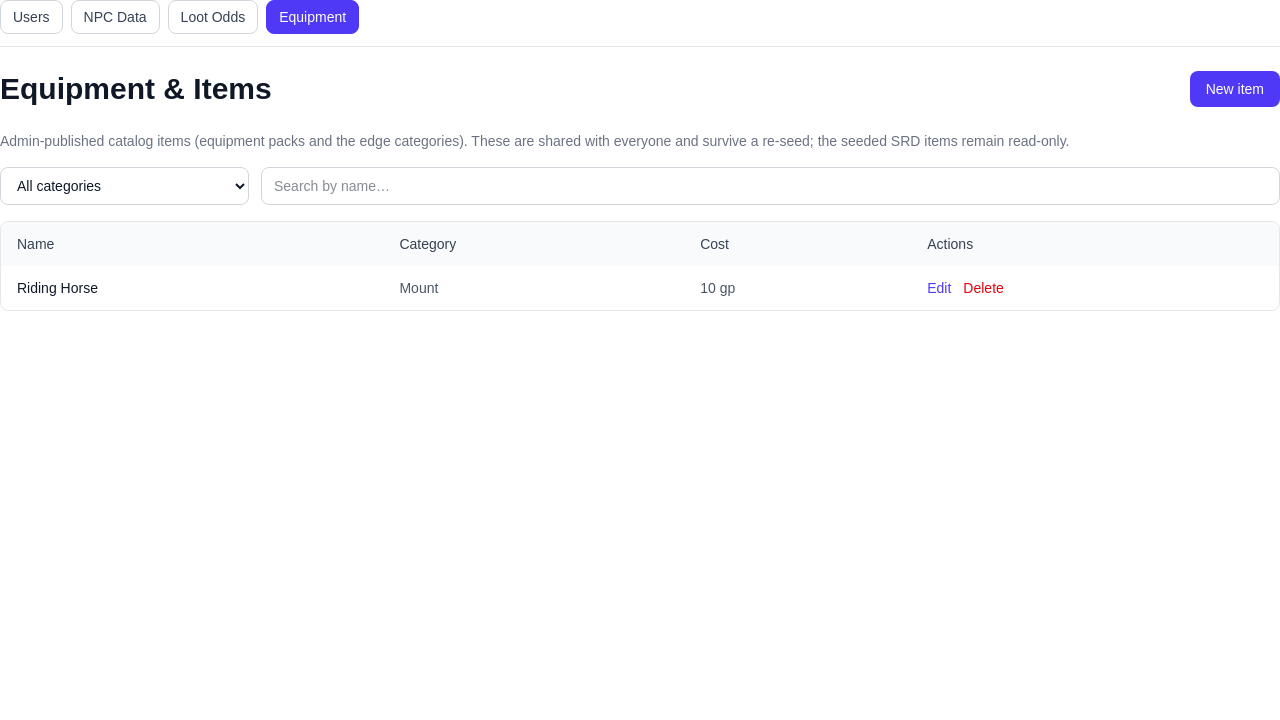
AdminEquipmentPage › deletes an item after confirmation and refetches the list
The width and height of the screenshot is (1280, 720).
Expected: the text "Riding Horse" is shown, [1,266,383,310]
Click the button "Delete": (984, 288) [963,278,1004,298]
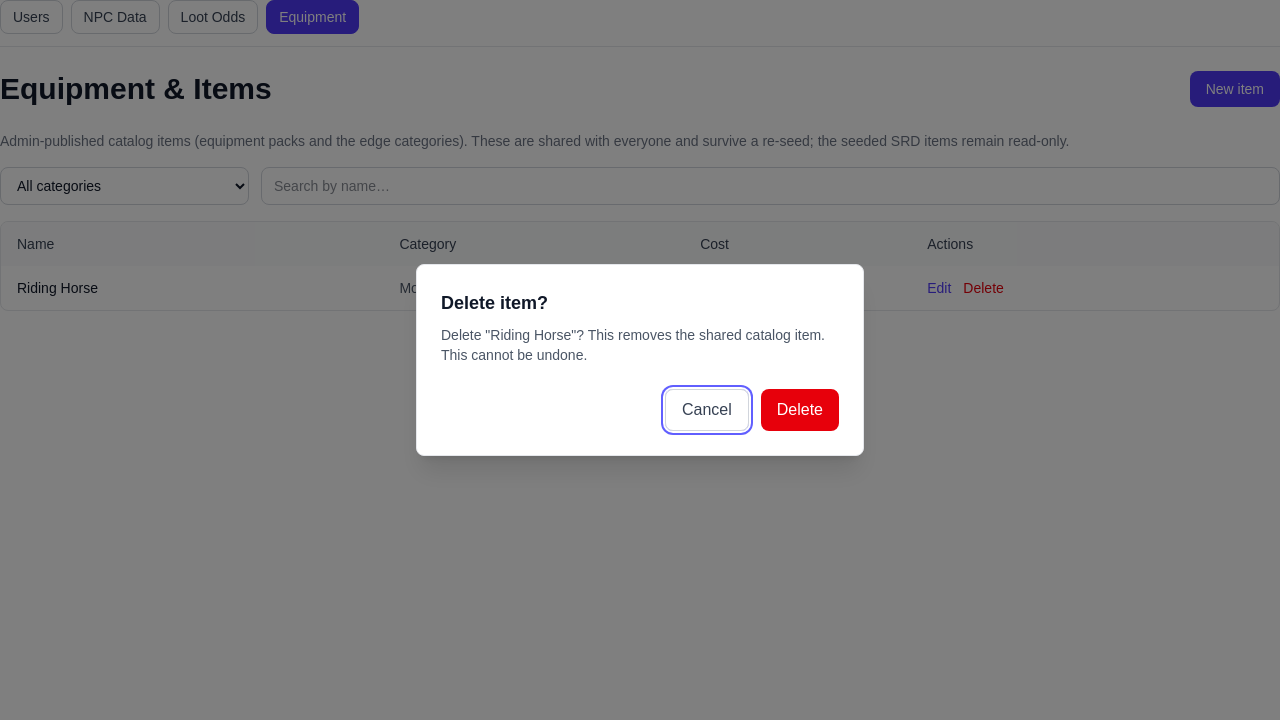
Click the button "Delete": (800, 410) [761,389,839,431]
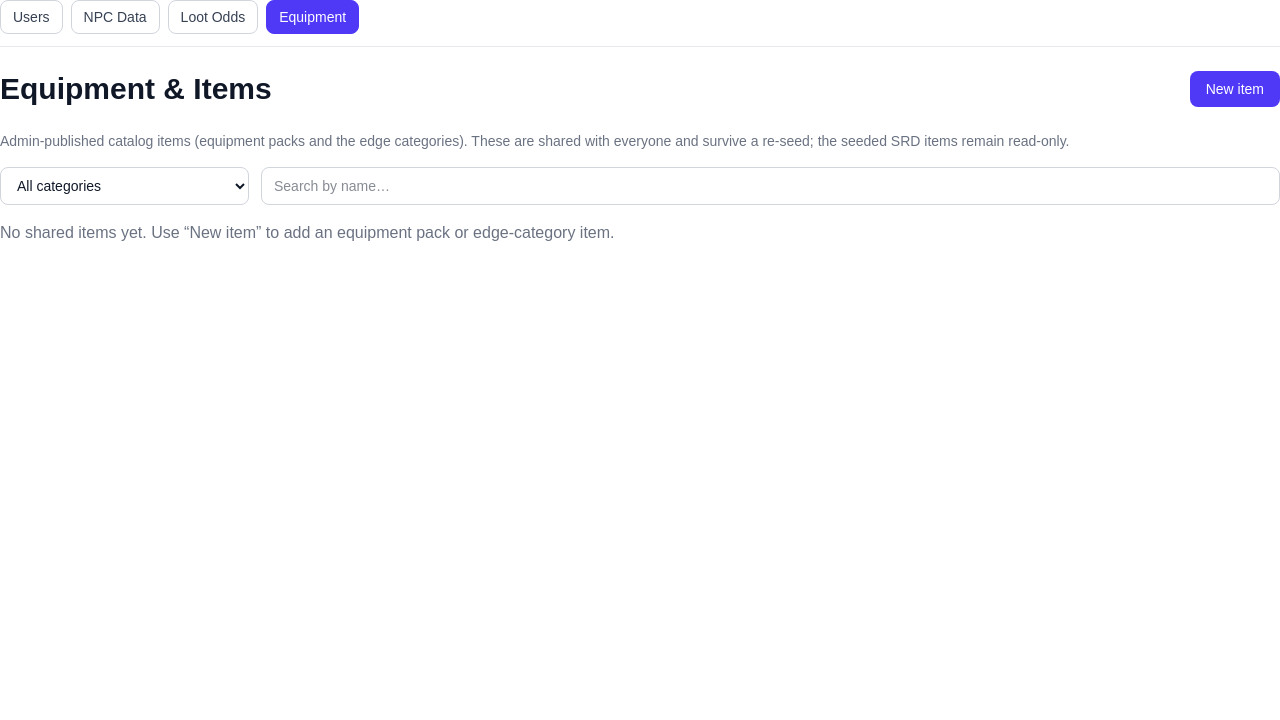
Now the text "Riding Horse" is gone
